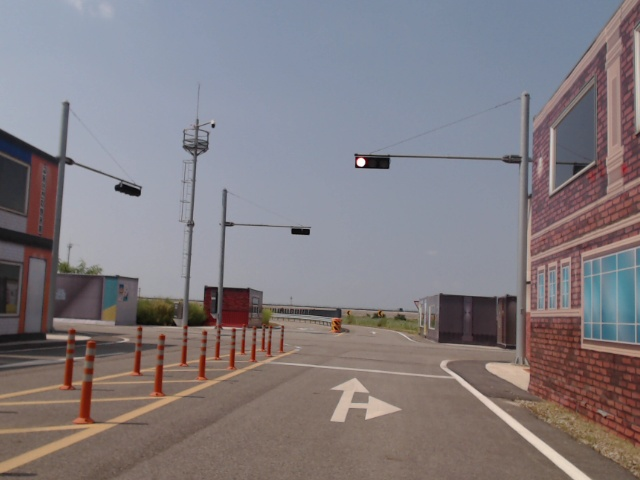red_3: (355, 157, 390, 169)
